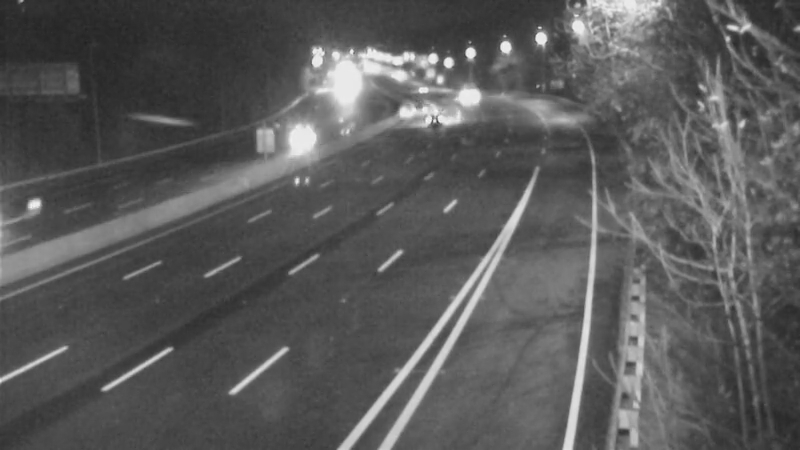vehicle: (1, 176, 71, 256), (443, 71, 493, 121), (395, 65, 445, 115), (380, 84, 430, 134), (409, 94, 459, 144), (277, 111, 327, 161)
